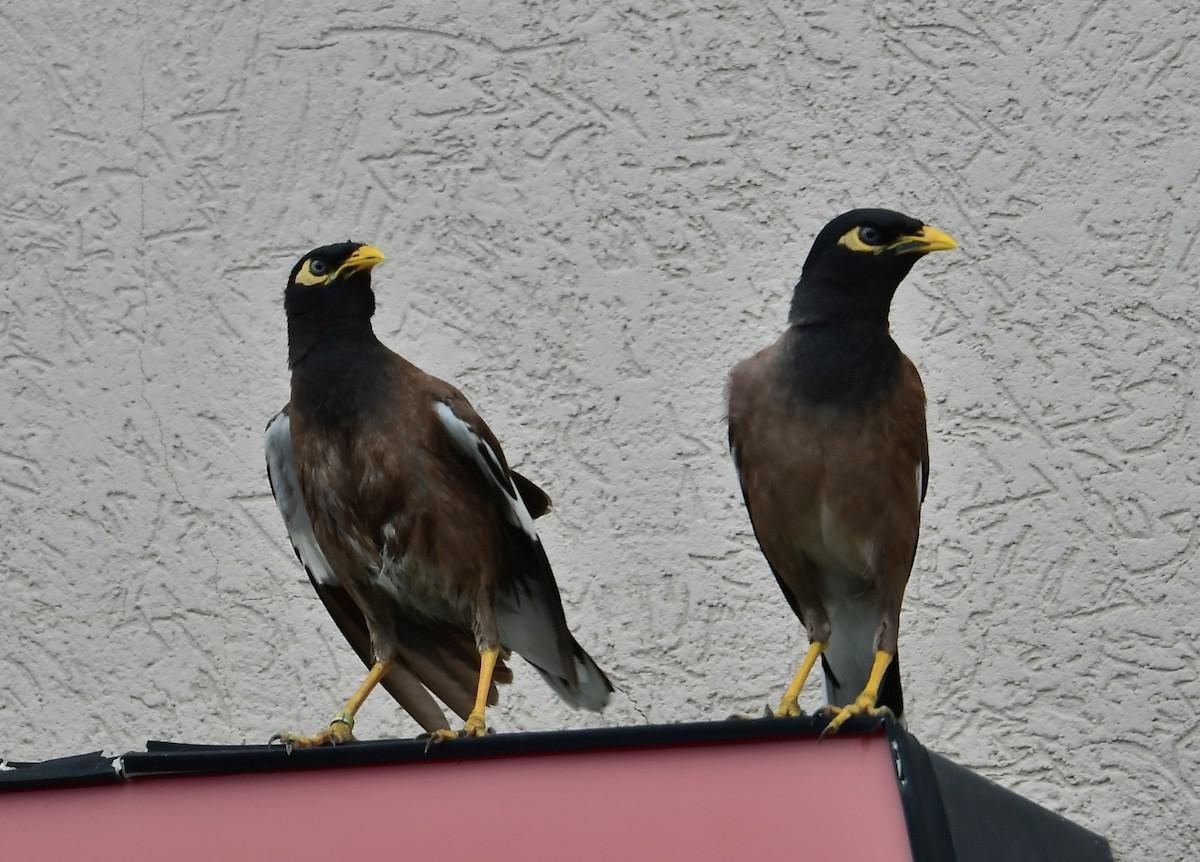myna: (697, 154, 997, 768), (259, 182, 559, 772)
